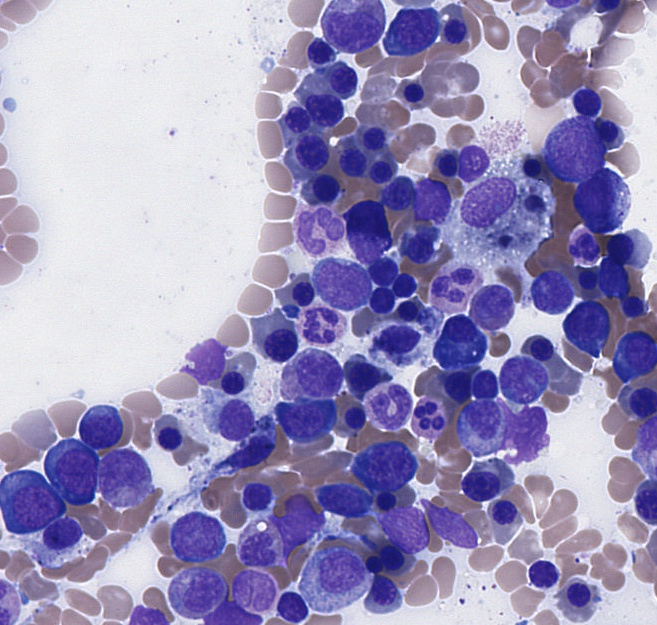objectness: (314, 542, 364, 592), (432, 304, 482, 354), (490, 343, 540, 393), (404, 390, 454, 440), (288, 298, 338, 348), (371, 392, 421, 442), (280, 197, 330, 247), (416, 259, 466, 309), (326, 4, 376, 54), (291, 345, 341, 395), (94, 443, 144, 493), (176, 566, 226, 616), (231, 519, 281, 569), (318, 257, 368, 307), (549, 122, 599, 172), (586, 253, 636, 303), (457, 392, 507, 442), (446, 136, 496, 186), (317, 469, 367, 519), (208, 391, 258, 441), (421, 498, 471, 548), (339, 195, 389, 245), (227, 423, 277, 473), (381, 497, 431, 547), (405, 172, 455, 222), (497, 401, 547, 451), (271, 497, 321, 547), (178, 336, 228, 386), (35, 509, 85, 559), (523, 266, 573, 316), (232, 470, 282, 520), (460, 357, 510, 407), (389, 1, 439, 51), (359, 566, 409, 616), (278, 391, 328, 441), (586, 104, 636, 154), (356, 143, 406, 193), (8, 478, 58, 528), (366, 531, 416, 581), (293, 24, 343, 74), (555, 570, 605, 620), (561, 294, 611, 344), (348, 110, 398, 160), (277, 268, 327, 318), (73, 404, 123, 454), (285, 121, 335, 171), (319, 50, 369, 100), (394, 223, 444, 273), (303, 80, 353, 130), (432, 4, 482, 54), (142, 411, 192, 461), (255, 320, 305, 370), (208, 356, 258, 406), (300, 161, 350, 211), (339, 349, 389, 399), (454, 458, 504, 508), (518, 546, 568, 596), (326, 134, 376, 184), (423, 135, 473, 185), (389, 65, 439, 115), (479, 486, 529, 536), (595, 221, 645, 271), (272, 93, 322, 143), (52, 443, 102, 493), (508, 139, 558, 189), (265, 582, 315, 625), (615, 326, 657, 376), (618, 377, 657, 427), (118, 589, 168, 625), (200, 589, 250, 625), (623, 476, 657, 526)
